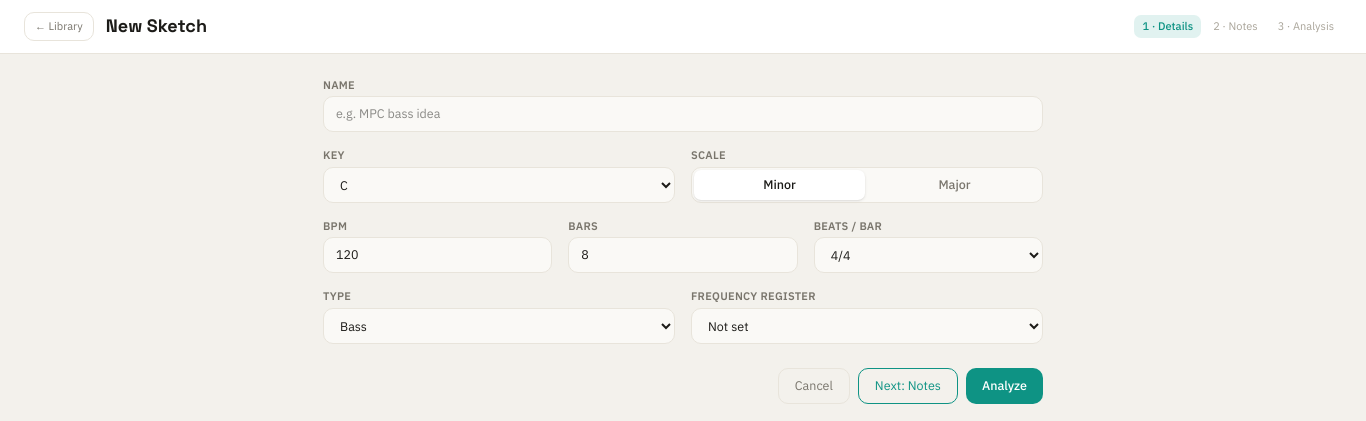
Test case: SketchWizard — details form › disables Analyze when BPM is out of range
This screenshot has width=1366, height=421.
Replace the text in the number field labelled "BPM" with "1000" at (438, 255), box x1=323 y1=238 x2=552 y2=273
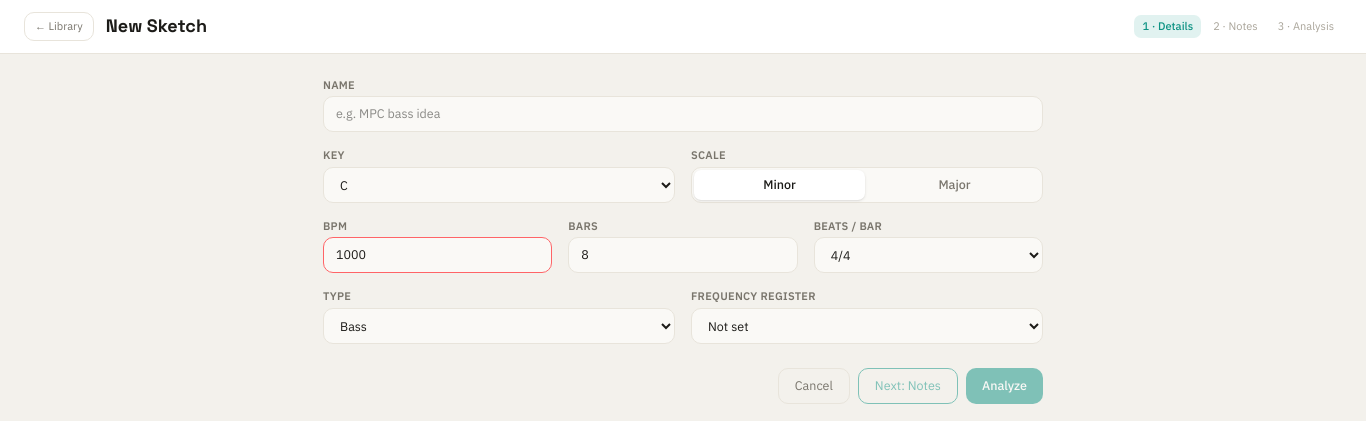
Check: the button "Analyze" is disabled, box x1=966 y1=368 x2=1043 y2=404
